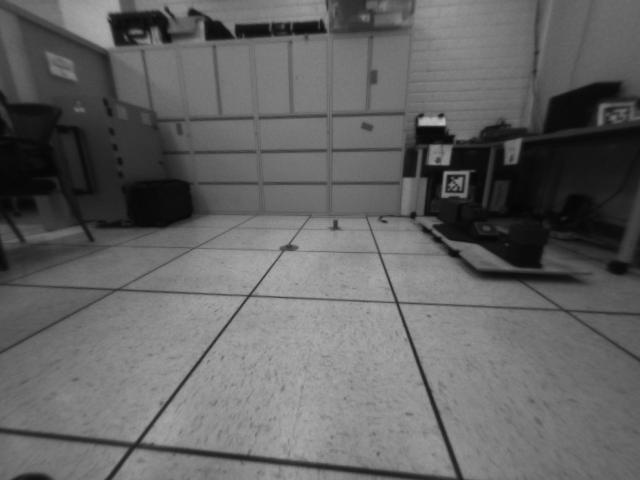X: (329, 219, 342, 231)
